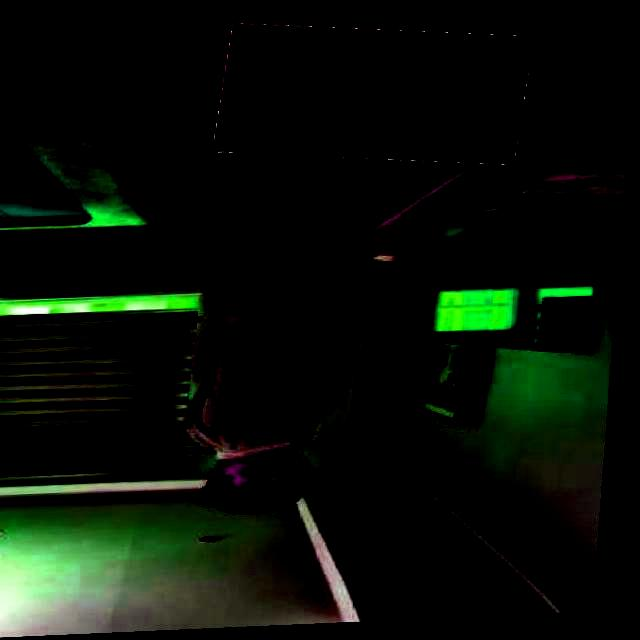barbell: (217, 22, 534, 173)
